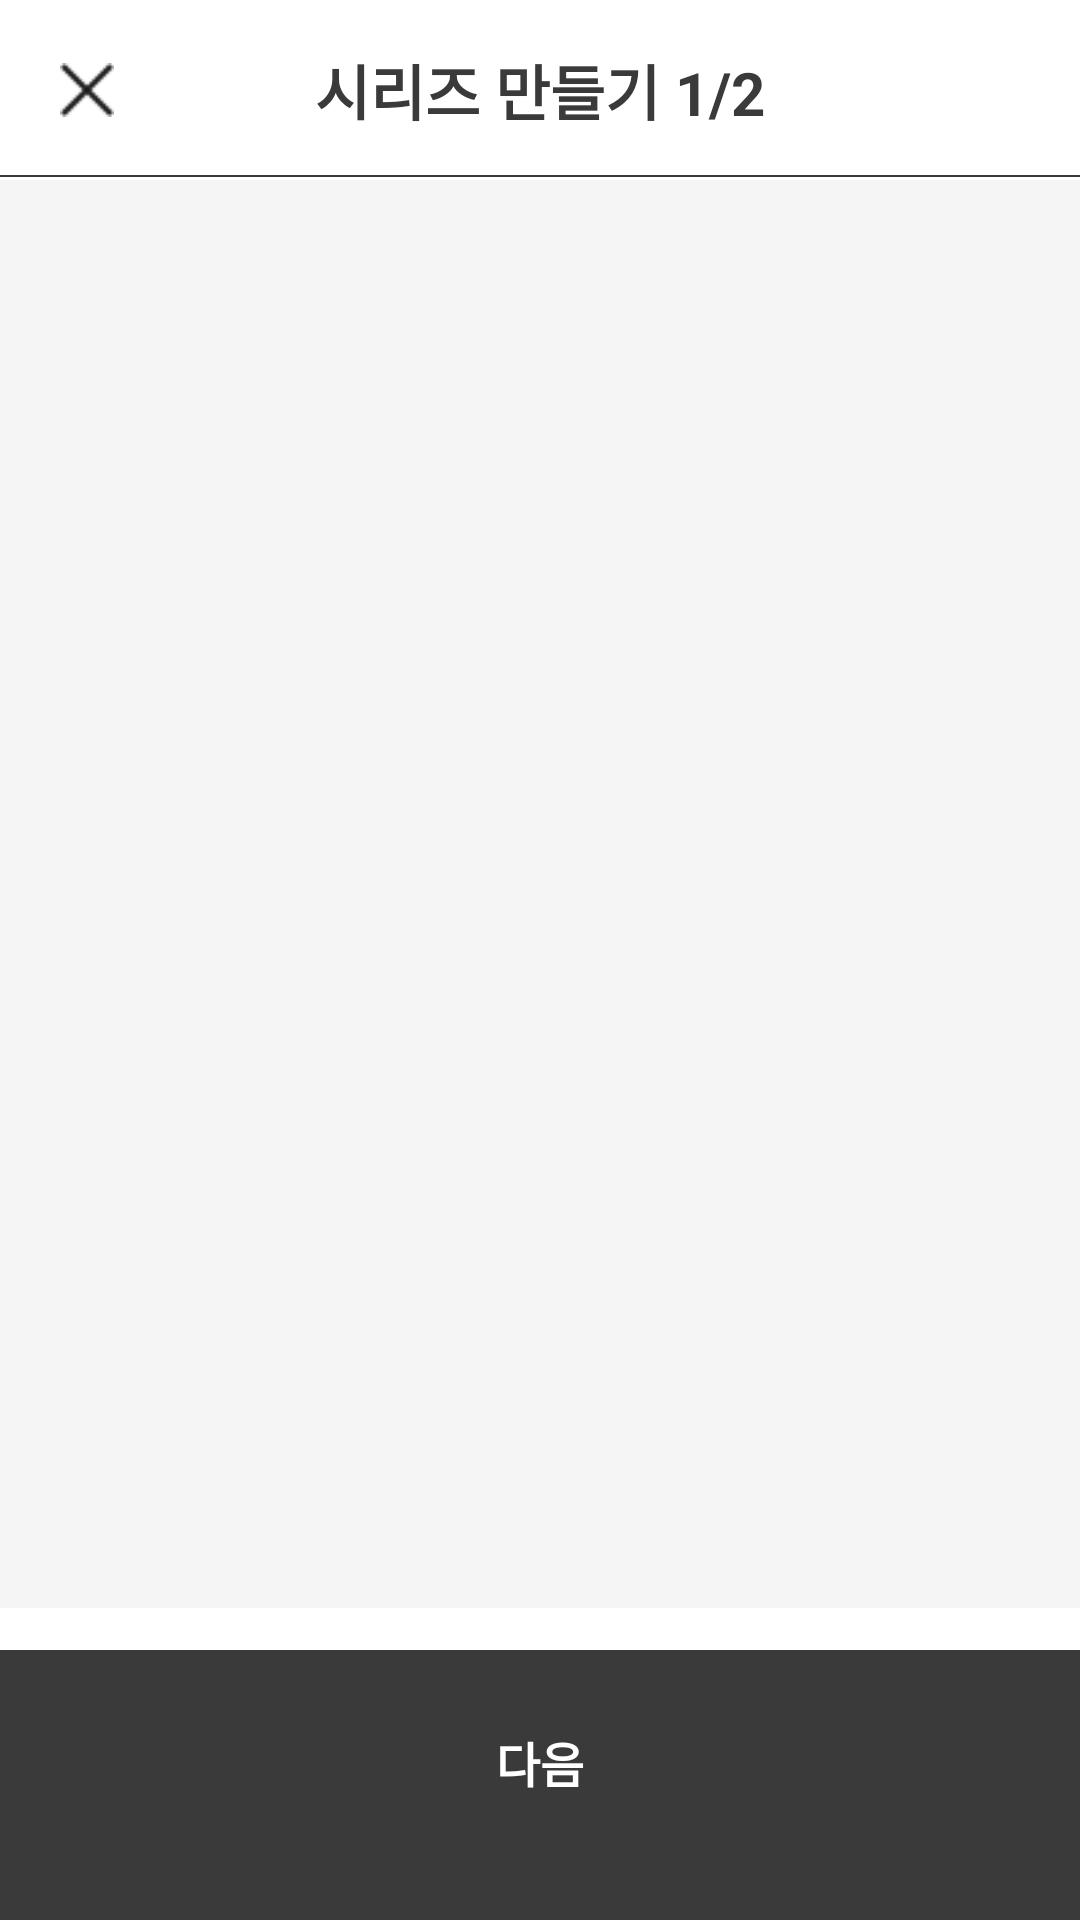

Icons on this 1080w x 1920h Android screen, each with the point to tap as (x,y):
close: (87,90)
